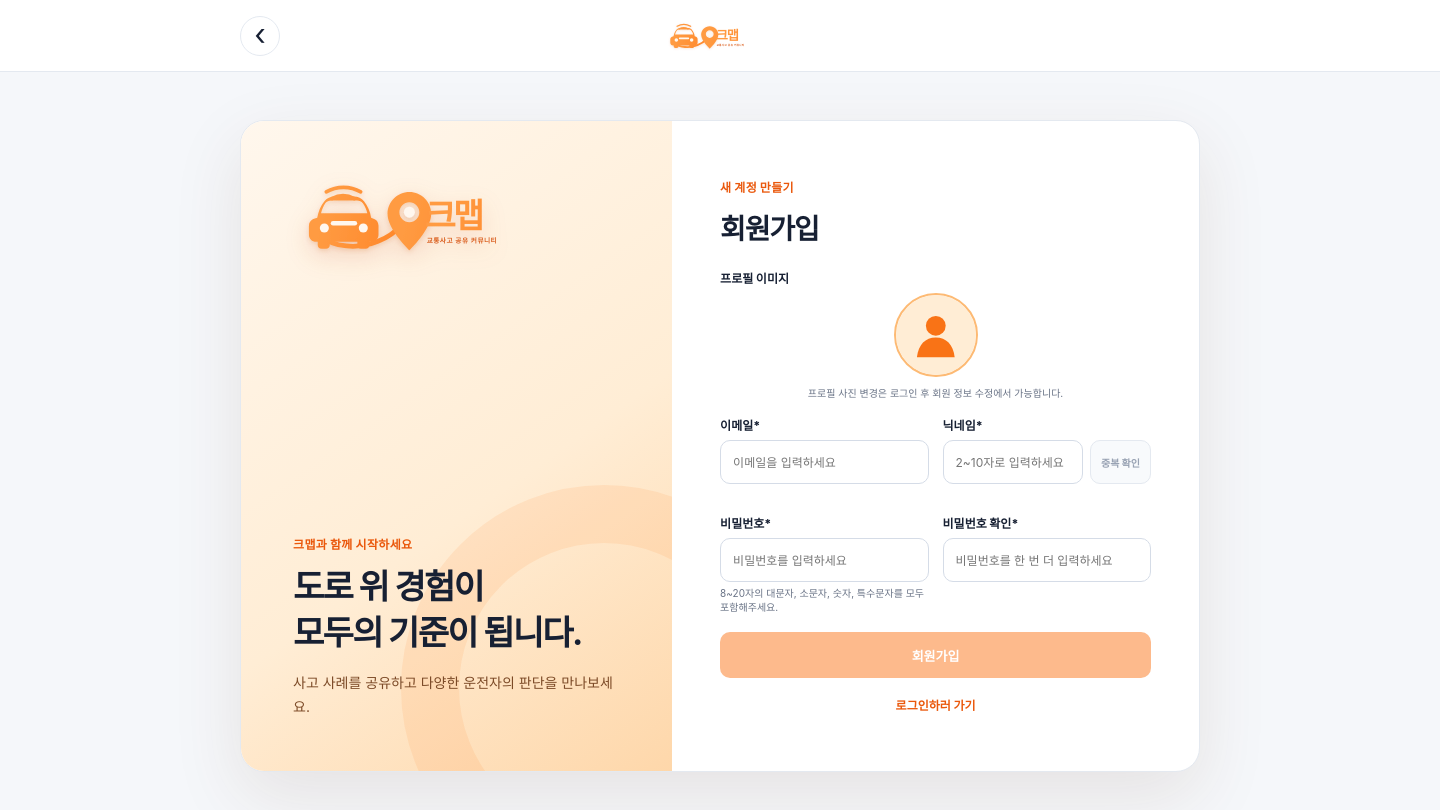
Test: SignupPage › 중복 확인이 끝난 값을 수정하면 이전 결과와 제출 가능 상태를 무효화한다
Type "user@example.com" into the field labelled "이메일*" at (824, 462), box [720,440,929,484]
Press Tab
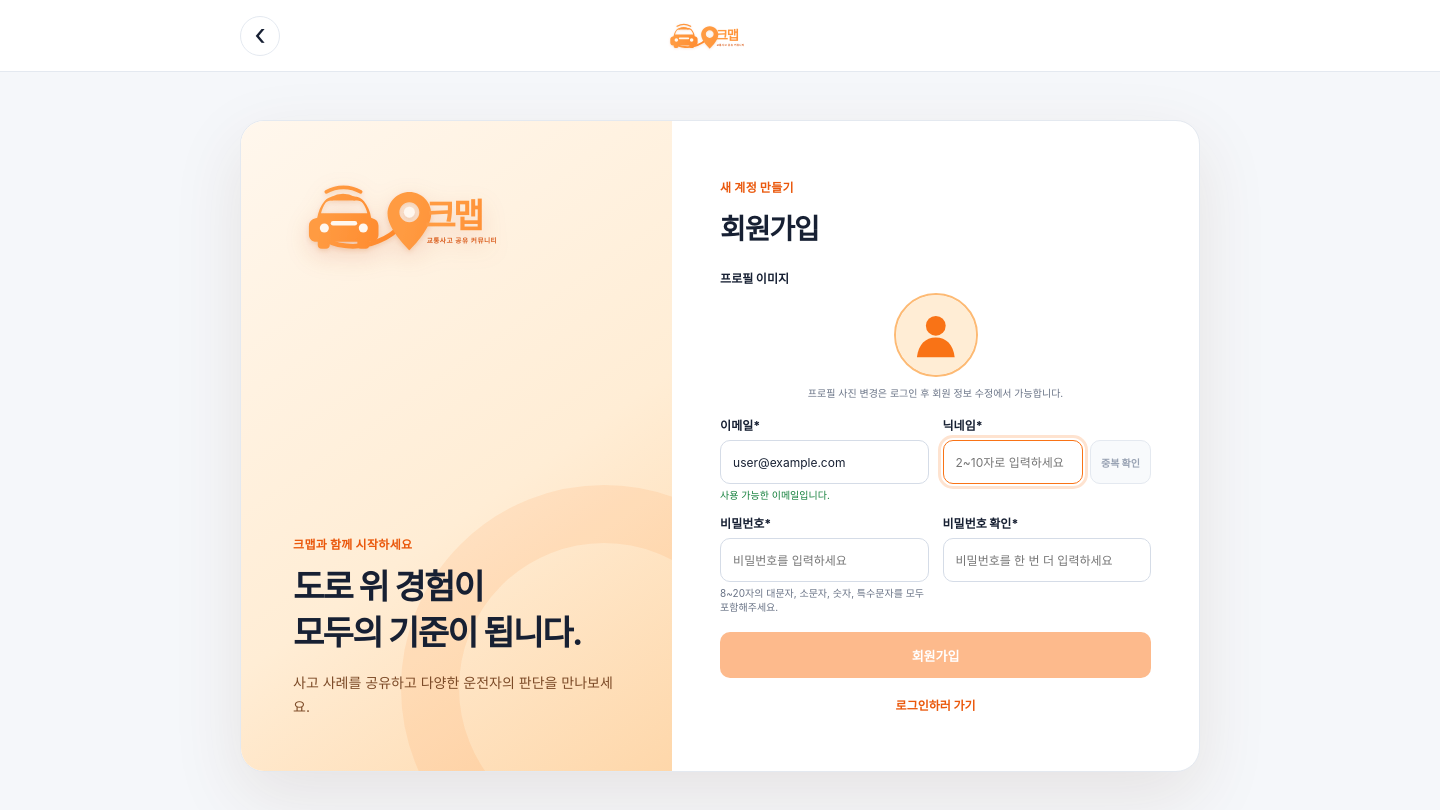
expect the text "사용 가능한 이메일입니다." is shown: met, box [720,489,830,501]
Type "테스터" into the field labelled "닉네임*" at (1013, 462), box [942,440,1083,484]
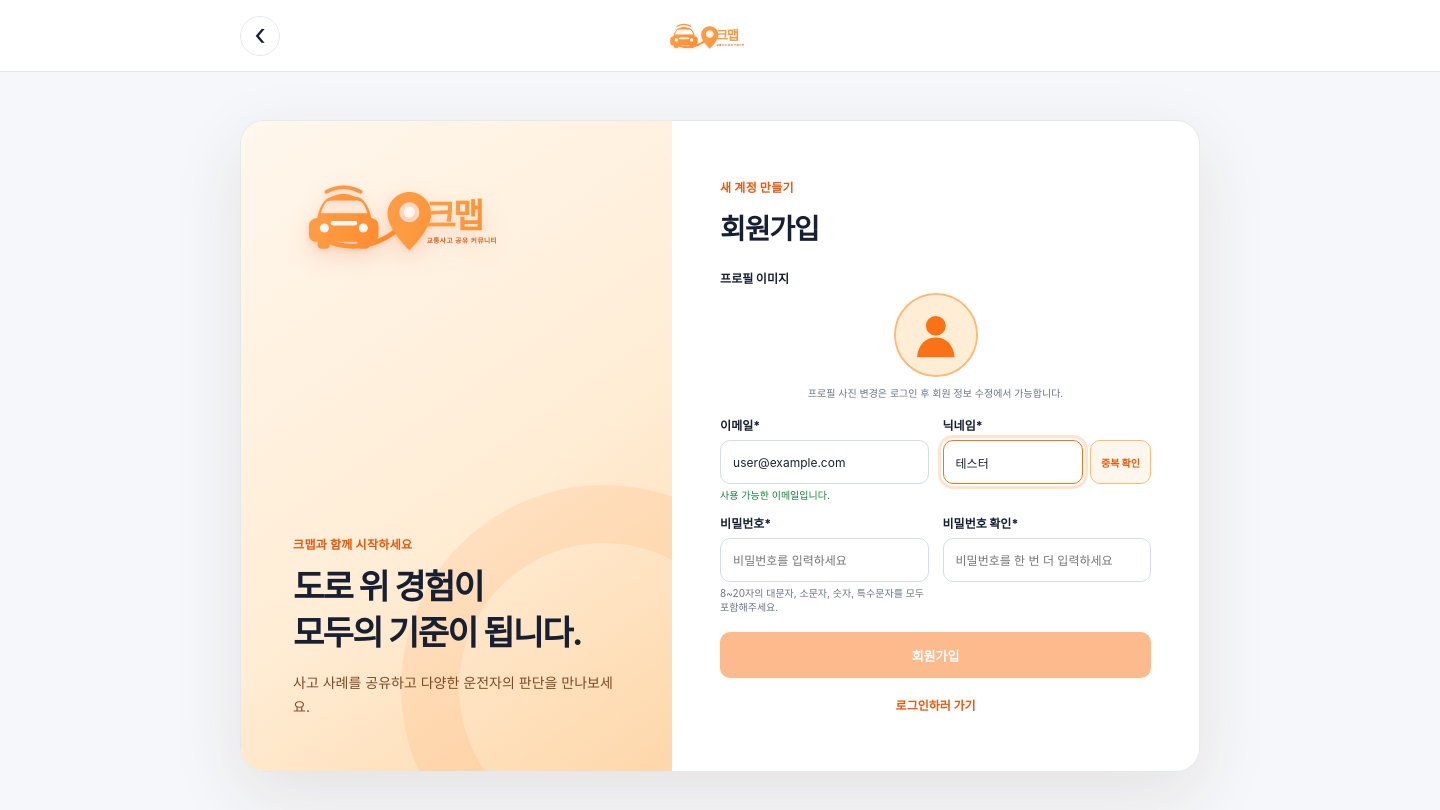
Click the button "중복 확인" at (1120, 462), box [1090,440,1151,484]
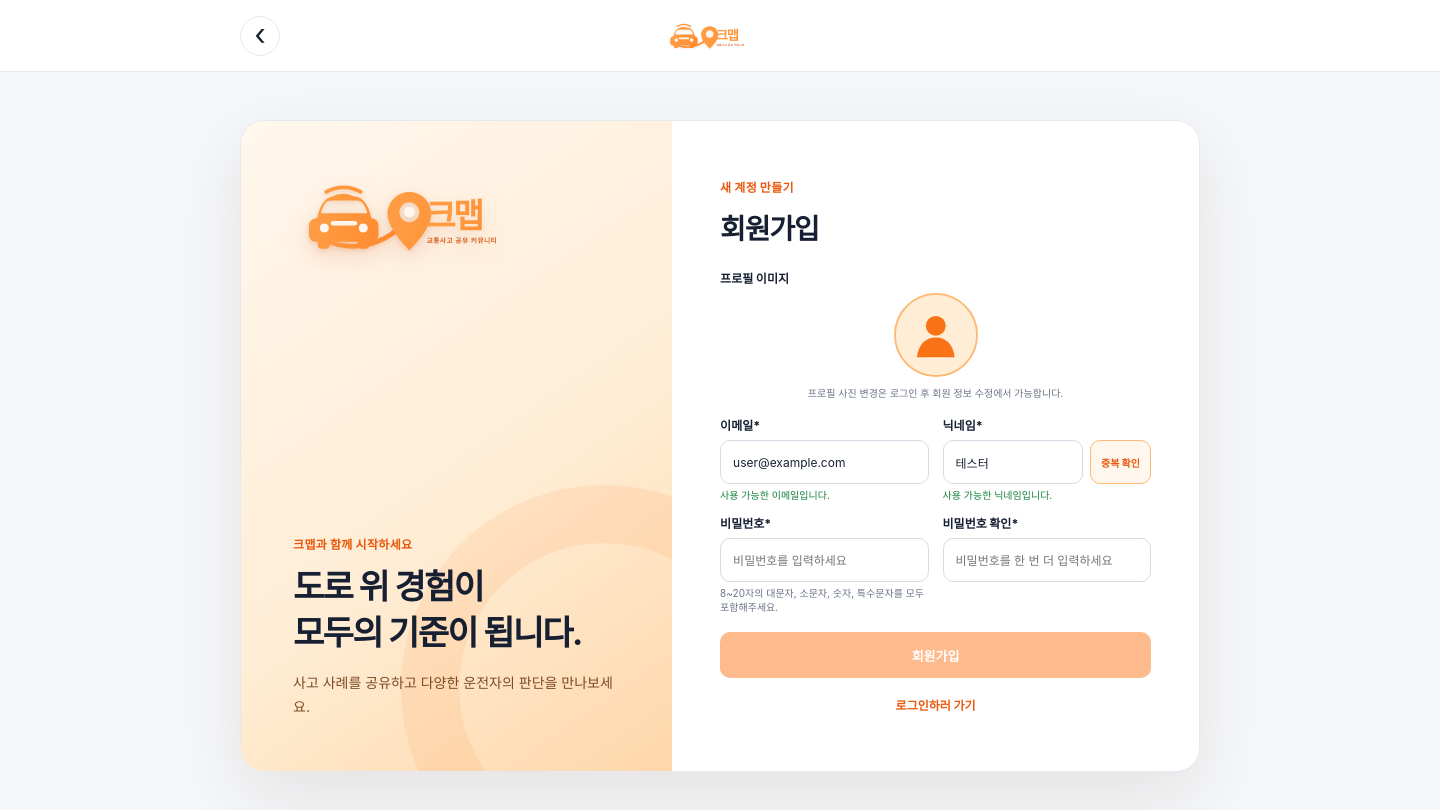
expect the text "사용 가능한 닉네임입니다." is shown: met, box [942,489,1052,501]
Type "Password1!" into the password field labelled "비밀번호*" at (824, 560), box [720,538,929,582]
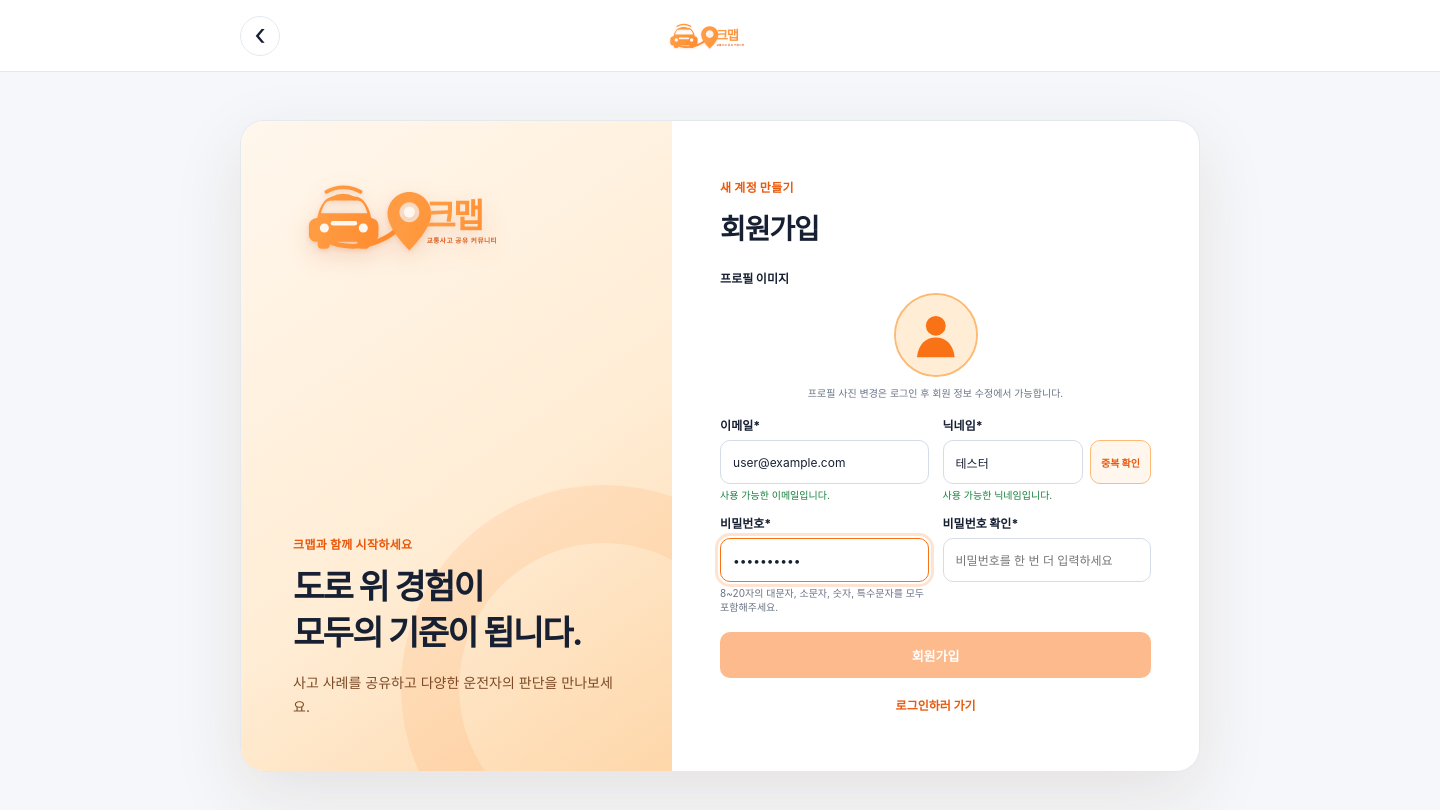
Type "Password1!" into the password field labelled "비밀번호 확인*" at (1047, 560), box [942,538,1151,582]
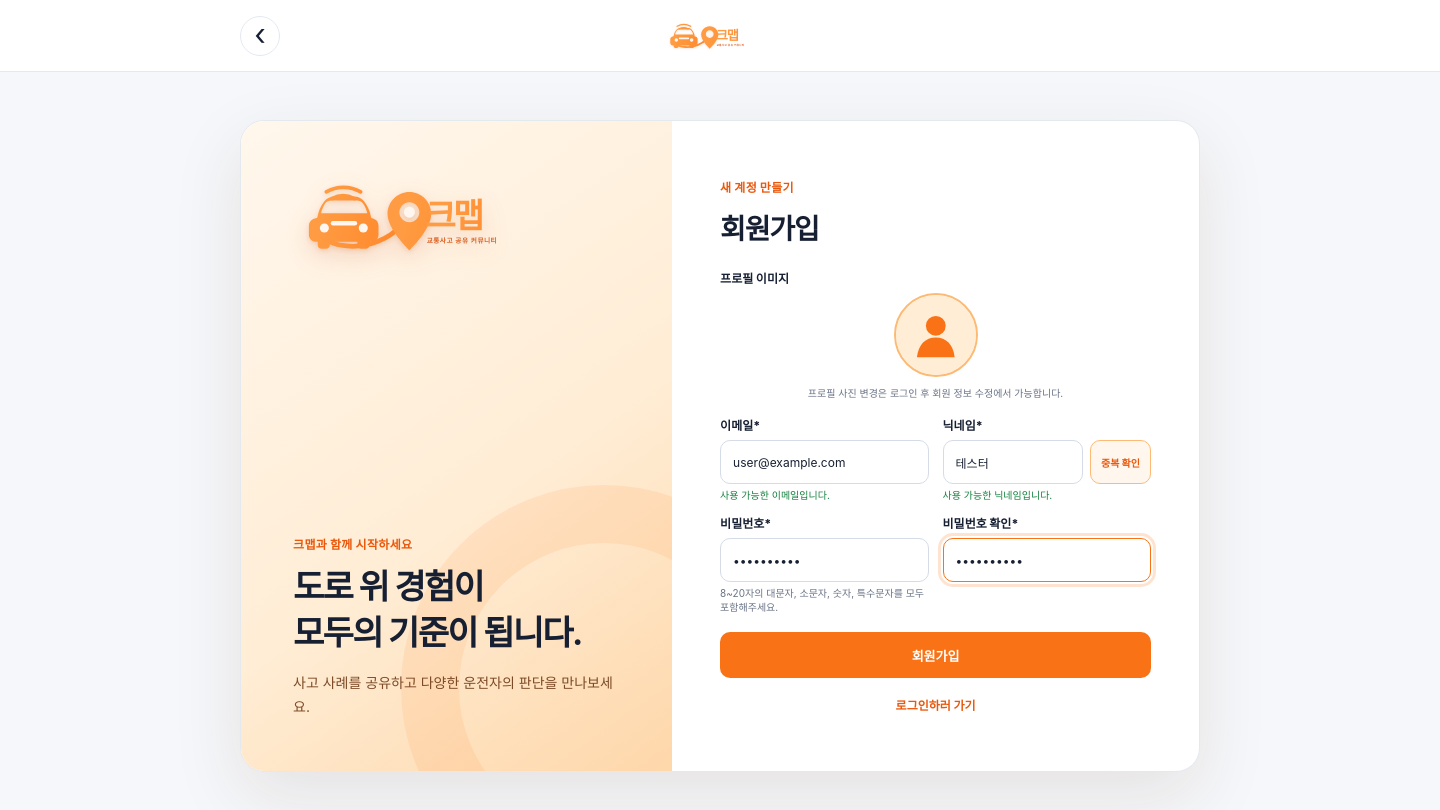
expect the button "회원가입" is enabled: met, box [720,632,1151,678]
Type "x" into the field labelled "이메일*" at (824, 462), box [720,440,929,484]
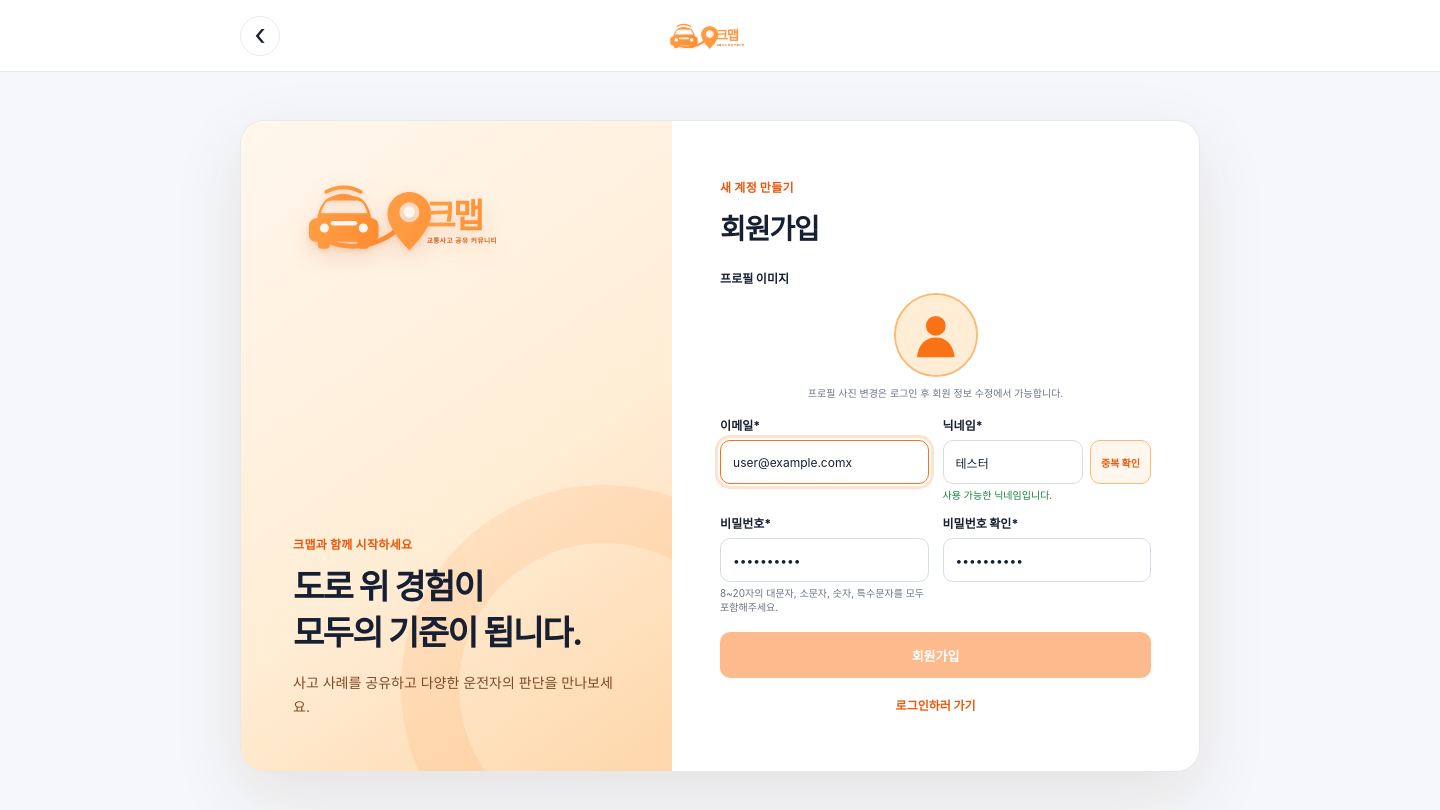
expect the text "사용 가능한 이메일입니다." is gone: met
expect the button "회원가입" is disabled: met, box [720,632,1151,678]
